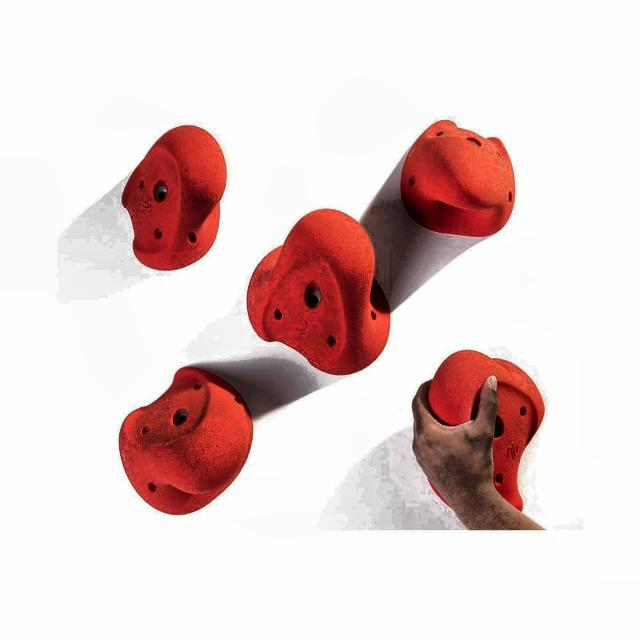Hold: (247, 208, 386, 376), (115, 365, 254, 515), (123, 123, 229, 265), (400, 121, 516, 236)
